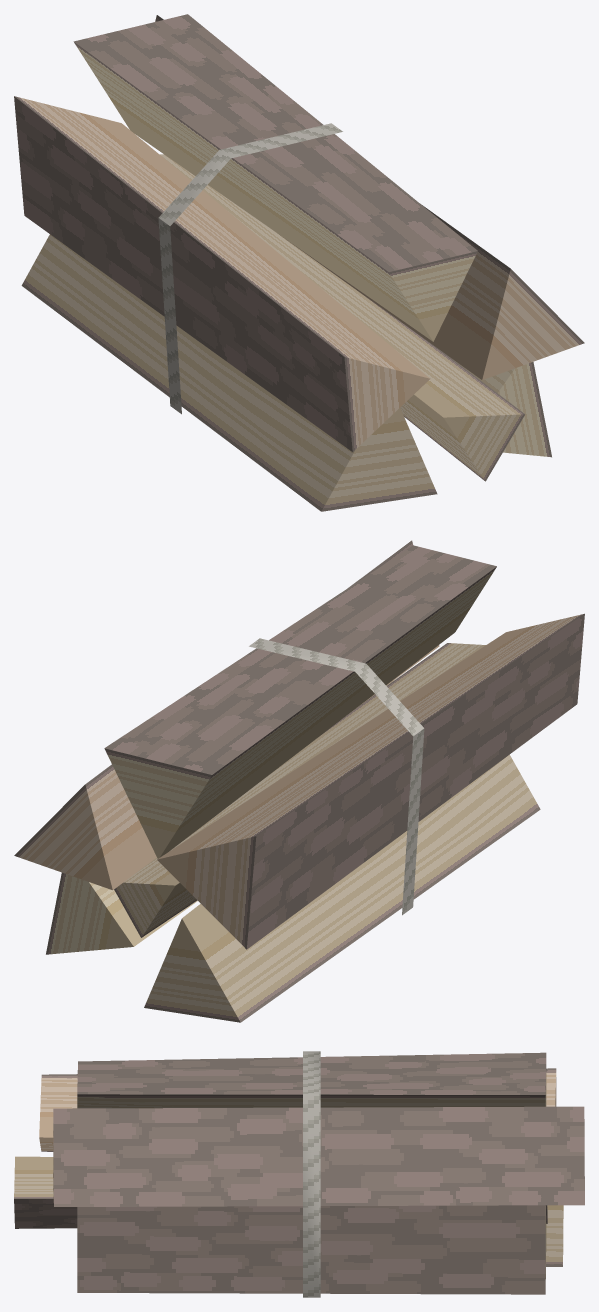
The model's file is 00de_Firewood.glb.
3 views of the same model, one above another, from view 1: azimuth 30°, elevation 25°; view 2: azimuth 150°, elevation 25°; view 3: azimuth 270°, elevation 25° (orthographic). The views are drawn at different scales.
Visible parts, largest first — view 1: part_0; view 2: part_0; view 3: part_0.
Part boxes in pixels (x1=…): part_0: x1=14, y1=14, x2=584, y2=511; part_0: x1=14, y1=540, x2=584, y2=1022; part_0: x1=14, y1=1051, x2=584, y2=1297.
Size of the model in its own units: 0.2501 by 0.2388 by 0.6377.
1 material, 1 textured.
